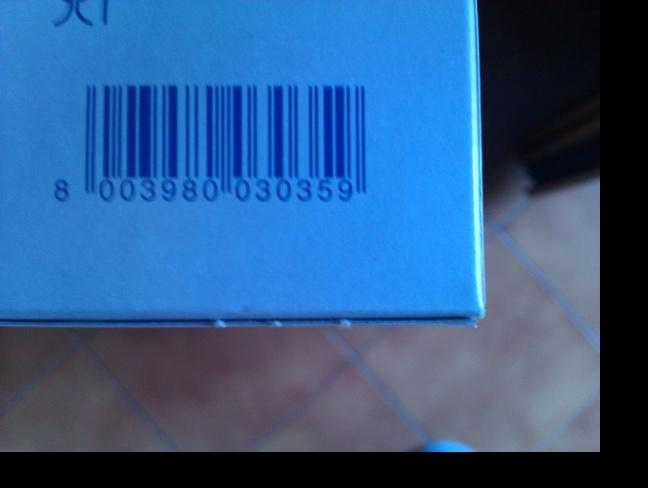Barcode: (42, 82, 389, 218)
